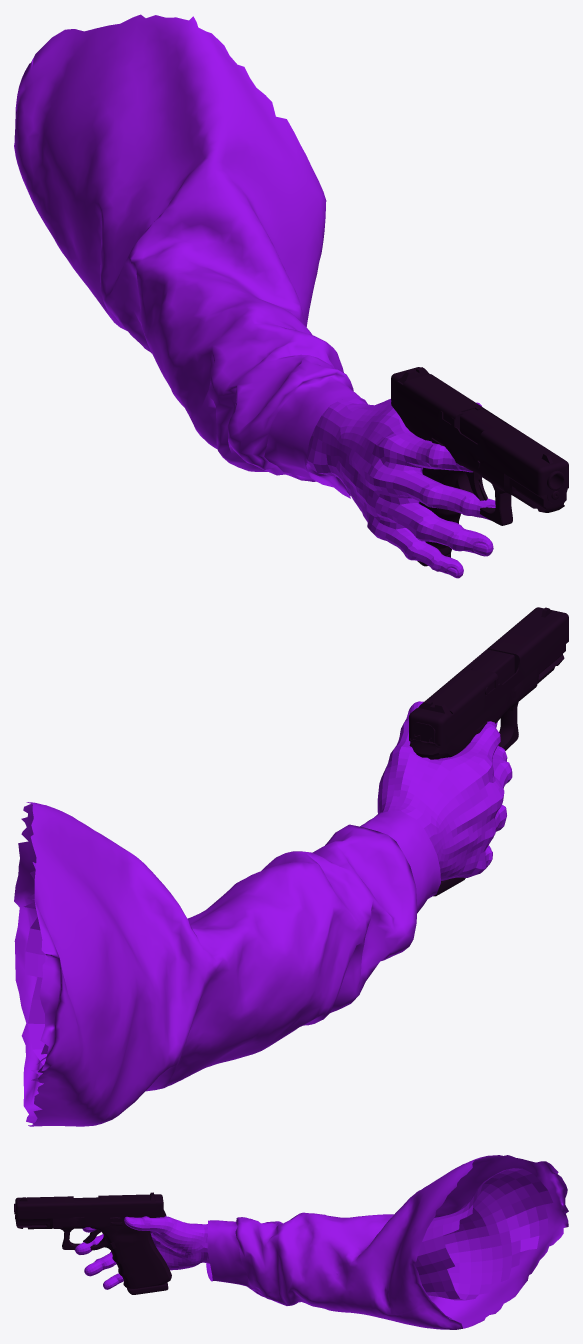
The model's file is gunpoint.fbx.
3 views of the same model, one above another, from view 1: azimuth 30°, elevation 25°; view 2: azimuth 150°, elevation 25°; view 3: azimuth 270°, elevation 25° (orthographic). The views are drawn at different scales.
Parts seen in each view (by area): view 1: HOOD_UP; view 2: HOOD_UP; view 3: HOOD_UP.
Boxes of the visible parts, bbox=[...] form: HOOD_UP: bbox=[14, 14, 568, 578]; HOOD_UP: bbox=[14, 607, 568, 1126]; HOOD_UP: bbox=[14, 1155, 568, 1329].
Bounding box in the file's own units: 143 × 183 × 541.
